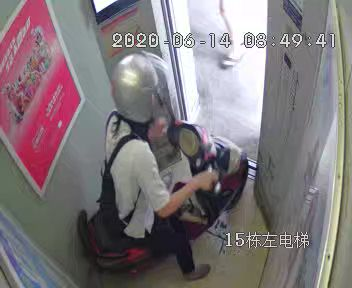Electric-bicycle: (76, 122, 247, 276)
